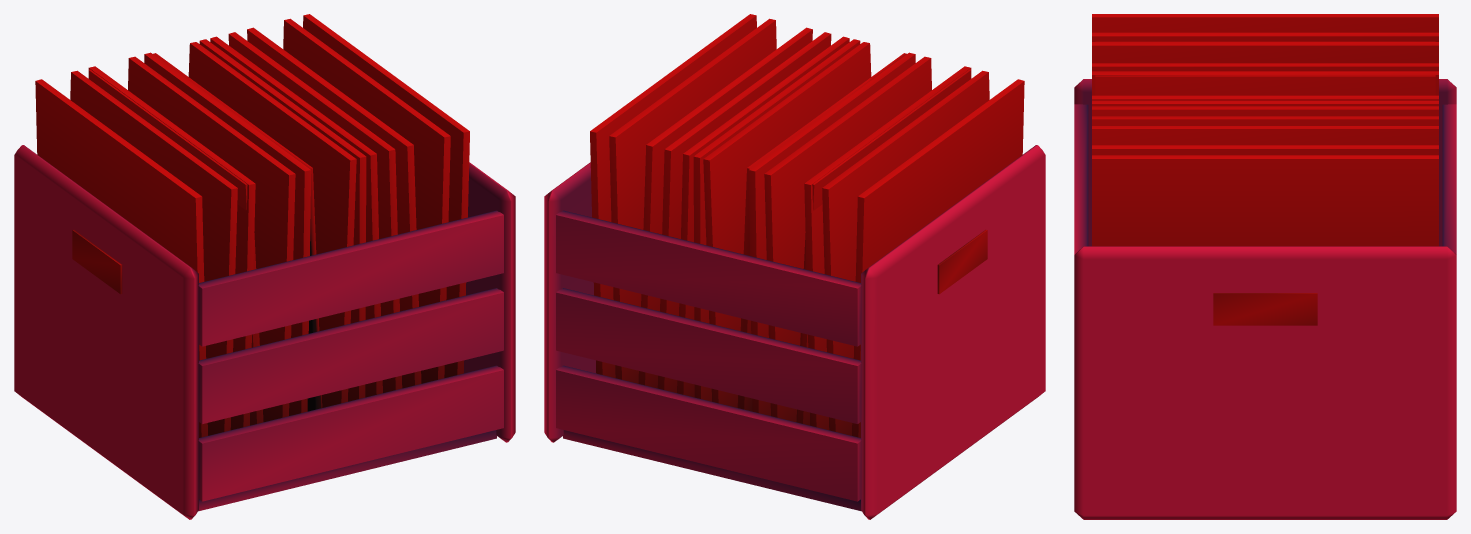
File: CI_Living_RecordCrate.glb
The picture shows the model from 3 angles, left to right: view 1: azimuth 30°, elevation 25°; view 2: azimuth 150°, elevation 25°; view 3: azimuth 270°, elevation 25°; orthographic projection. The views are drawn at different scales.
Parts seen in each view (by area): view 1: CI_Living_RecordCrate; view 2: CI_Living_RecordCrate; view 3: CI_Living_RecordCrate.
Part boxes in pixels (left/top/right/bottom): CI_Living_RecordCrate: left=14, top=14, right=515, bottom=519; CI_Living_RecordCrate: left=544, top=14, right=1045, bottom=519; CI_Living_RecordCrate: left=1074, top=14, right=1456, bottom=519.
Size of the model in its own units: 0.364 by 0.327 by 0.33.
